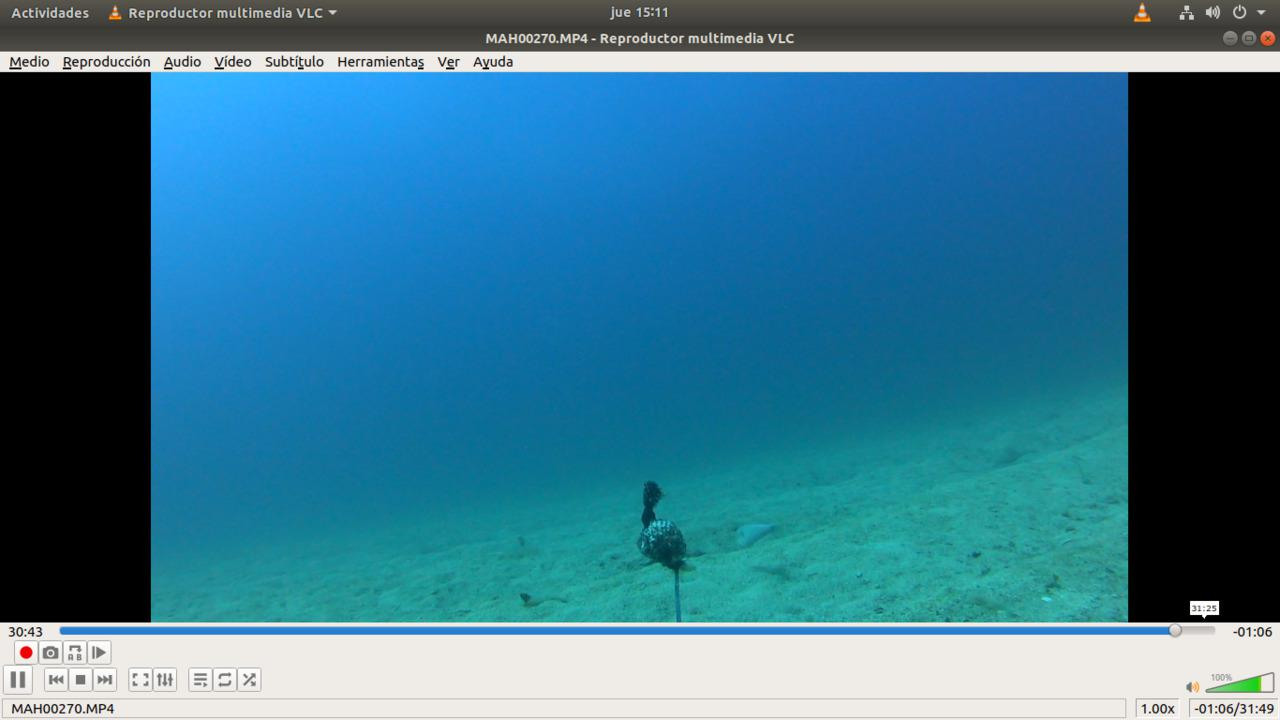raor: (724, 514, 783, 556)
